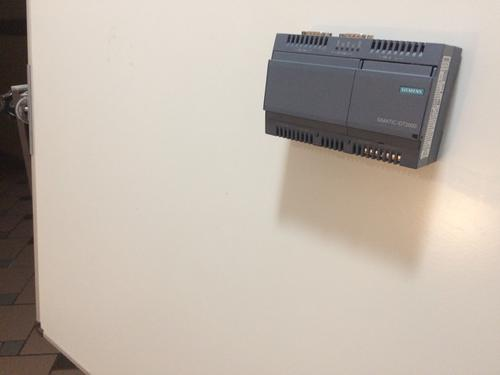iot2000: (262, 29, 463, 170)
